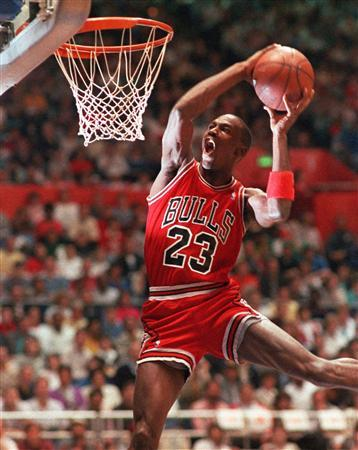ball: (249, 41, 318, 119)
basket: (41, 8, 176, 149)
shoot: (137, 38, 346, 450)
